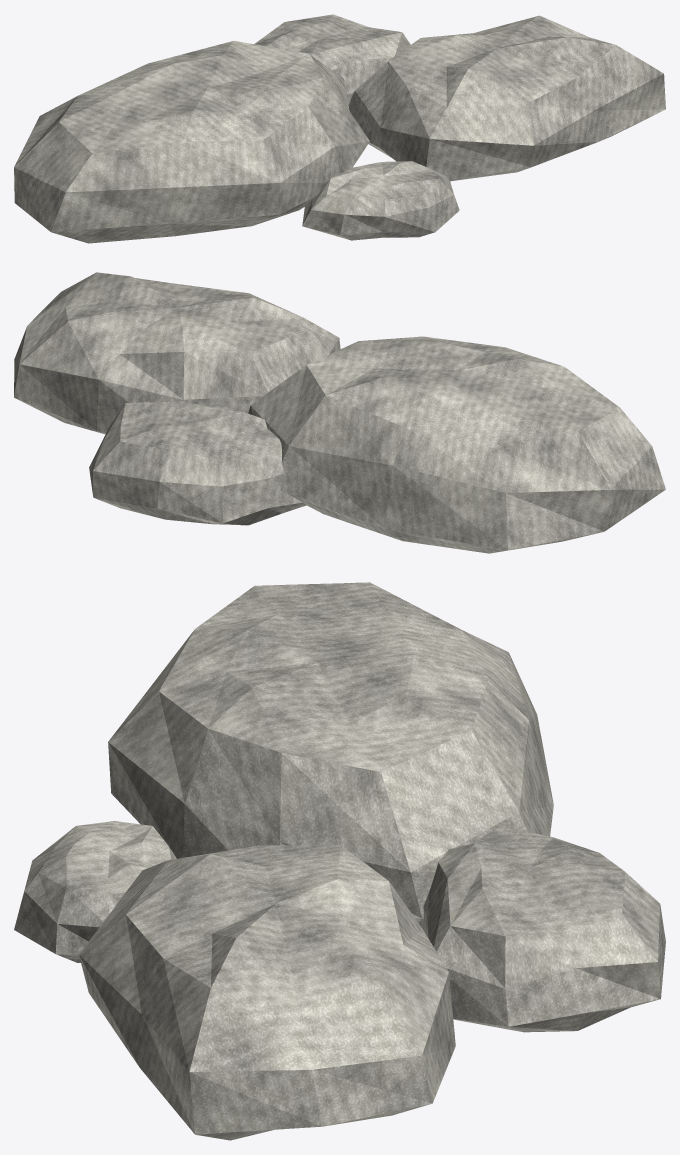
File: valley-river-rocks.obj
The picture shows the model from 3 angles, top to bottom: view 1: azimuth 30°, elevation 25°; view 2: azimuth 150°, elevation 25°; view 3: azimuth 270°, elevation 25°; orthographic projection. The views are drawn at different scales.
Size of the model in its own units: 2.86 by 0.5633 by 1.72.
3 materials, 3 textured.
